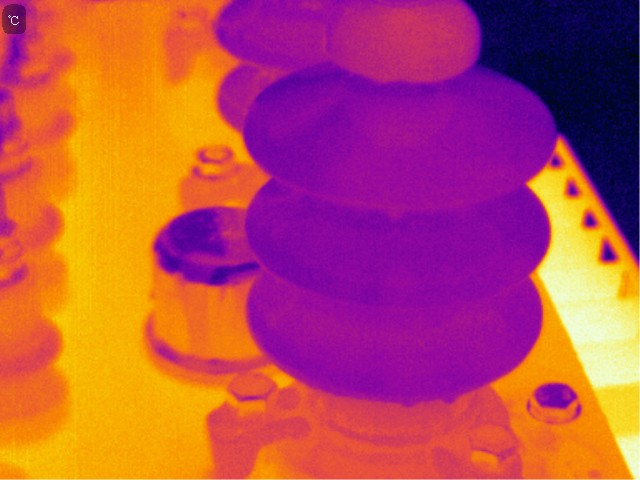Oil: (324, 2, 482, 87), (439, 390, 458, 406), (401, 396, 421, 410)
